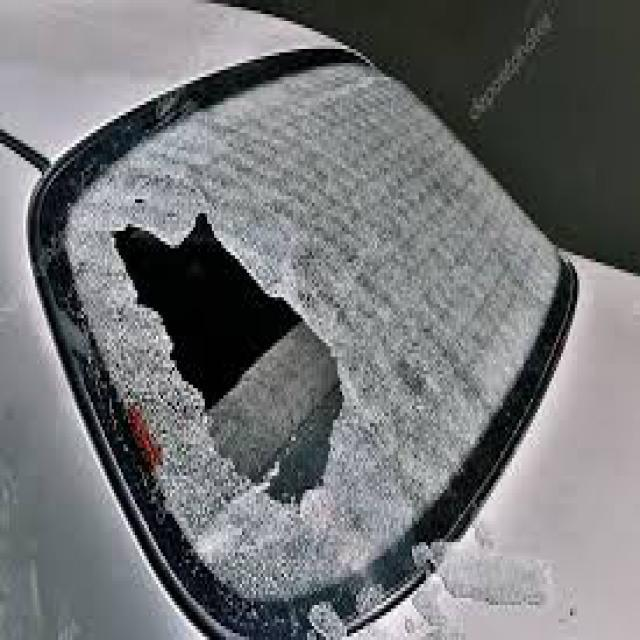Rear-windscreen-Damage: (0, 49, 582, 633)
